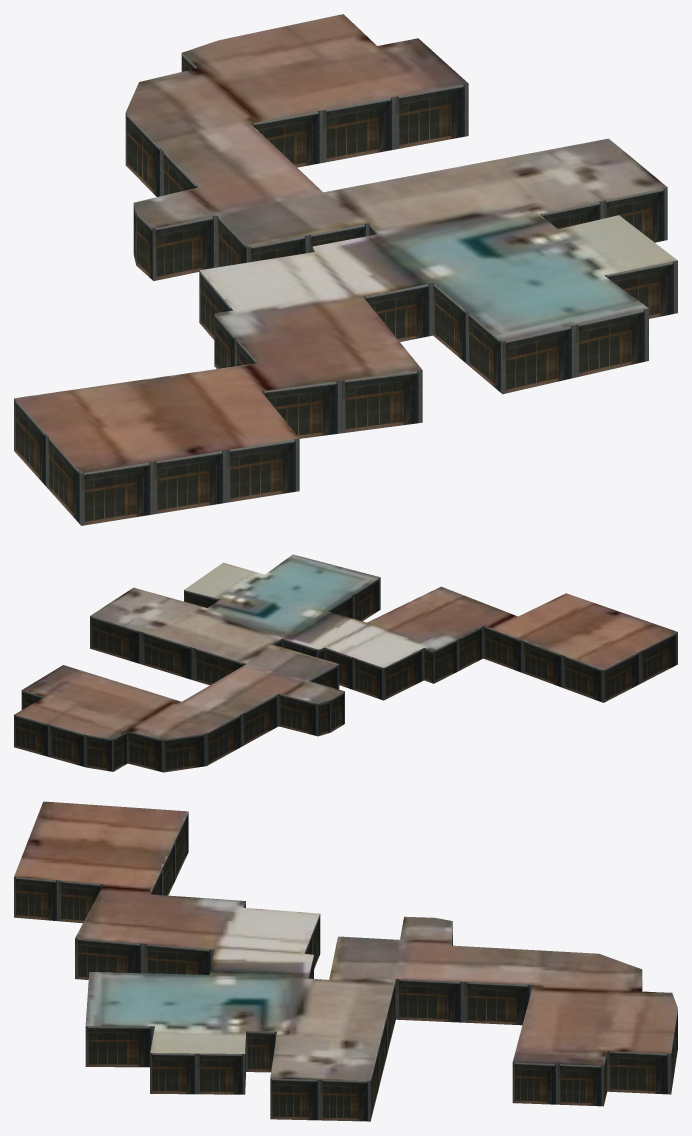
Rendered from T_1SXX44NVEB.dae.
The picture shows the model from 3 angles, top to bottom: view 1: azimuth 30°, elevation 25°; view 2: azimuth 150°, elevation 25°; view 3: azimuth 270°, elevation 25°; orthographic projection. The views are drawn at different scales.
Visible parts, largest first — view 1: SketchUp (×17); view 2: SketchUp (×20); view 3: SketchUp (×12).
Part boxes in pixels (x1,y1,x2,y2): SketchUp (×17): [14, 14, 677, 525]; SketchUp (×20): [14, 554, 677, 772]; SketchUp (×12): [14, 801, 677, 1121].
Bounding box in the file's own units: 45.7 × 45.9 × 3.11.
Materials: 2 (2 with a texture image).
